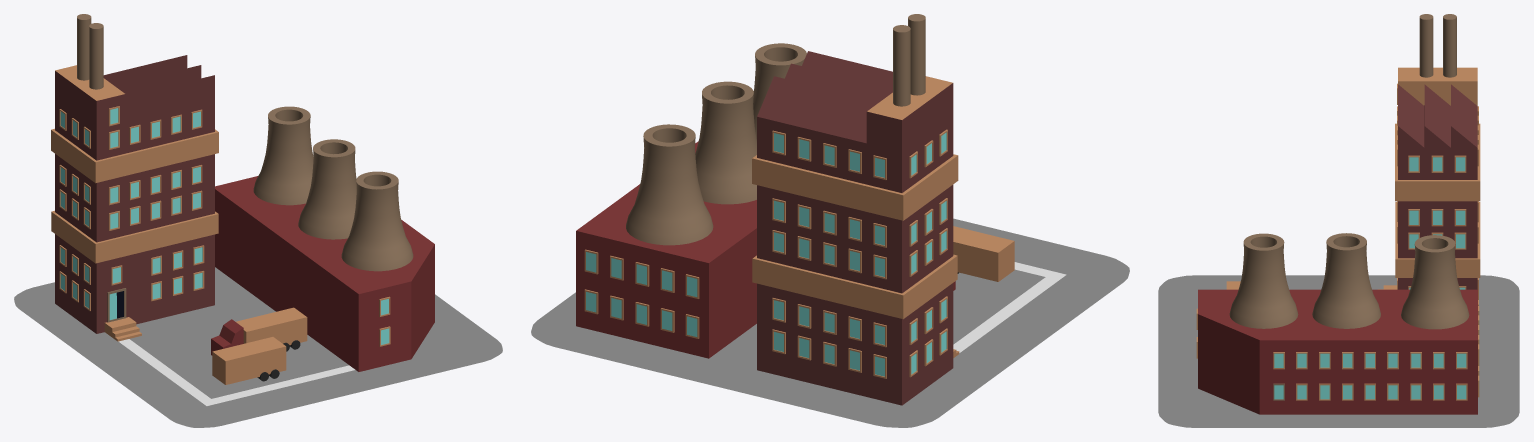
File: teste_Fabrica.fbx
3 renders of one model, left to right at view 1: azimuth 30°, elevation 25°; view 2: azimuth 150°, elevation 25°; view 3: azimuth 270°, elevation 25°, orthographic. The views are drawn at different scales.
Visible parts, largest first — view 1: Cube.022, Plane, Cube, Chamine, Cube.002, Cube.001, Cube.029, Cube.063, Cube.064, Cylinder.001, Cylinder.002, Cube.028; view 2: Cube.022, Plane, Cube, Cube.002, Cube.001, Cube.029, Cube.063, Cube.005, Chamine, Cylinder.002, Cylinder.001; view 3: Cube, Plane, Cube.022, Cube.001, Chamine, Cube.002, Cube.005, Cube.029, Cylinder.001, Cylinder.002.
Part boxes in pixels (x1,y1,x2,y2): Cube.022: [51, 55, 218, 341]; Plane: [14, 267, 502, 427]; Cube: [215, 176, 434, 371]; Chamine: [341, 171, 413, 271]; Cube.002: [253, 106, 313, 205]; Cube.001: [298, 139, 356, 239]; Cube.029: [60, 108, 202, 308]; Cube.063: [212, 337, 286, 384]; Cube.064: [211, 307, 307, 355]; Cylinder.001: [89, 23, 103, 89]; Cylinder.002: [77, 14, 91, 80]; Cube.028: [107, 288, 126, 322]; Cube.022: [752, 51, 959, 405]; Plane: [531, 218, 1129, 427]; Cube: [576, 141, 756, 358]; Cube.002: [626, 124, 713, 245]; Cube.001: [695, 81, 756, 204]; Cube.029: [774, 132, 946, 376]; Cube.063: [953, 226, 1014, 281]; Cube.005: [586, 252, 697, 336]; Chamine: [753, 43, 806, 139]; Cylinder.002: [893, 25, 910, 106]; Cylinder.001: [908, 14, 925, 95]; Cube: [1198, 289, 1477, 414]; Plane: [1158, 275, 1519, 427]; Cube.022: [1378, 67, 1480, 289]; Cube.001: [1312, 233, 1380, 328]; Chamine: [1229, 233, 1298, 328]; Cube.002: [1401, 235, 1469, 329]; Cube.005: [1274, 352, 1466, 399]; Cube.029: [1409, 157, 1465, 289]; Cylinder.001: [1419, 14, 1433, 77]; Cylinder.002: [1443, 14, 1456, 77].
Bounding box in the file's own units: 872 × 751 × 872.
